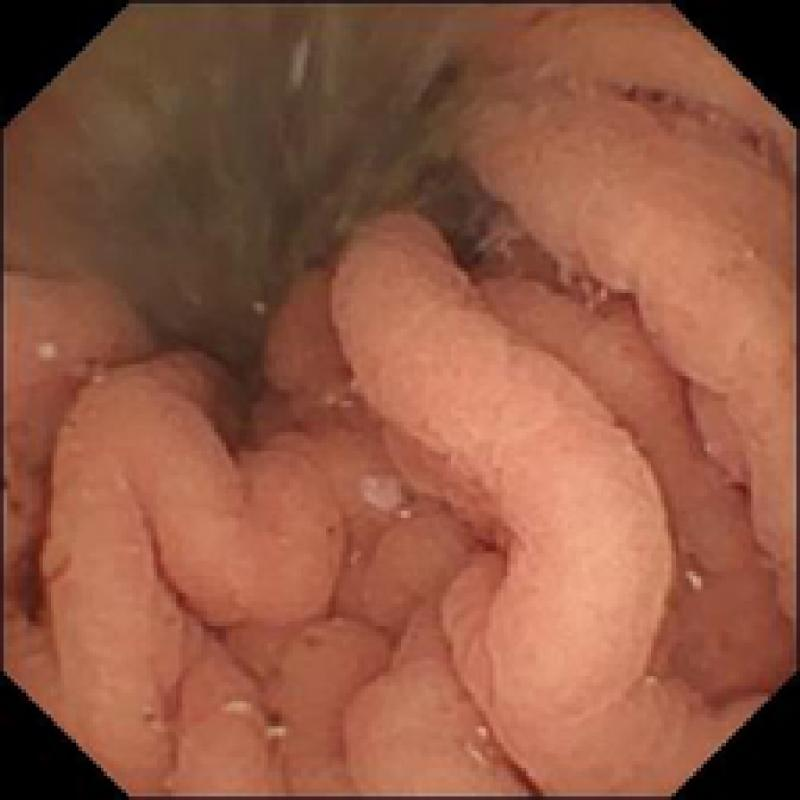bleeding: (4, 522, 60, 632)
